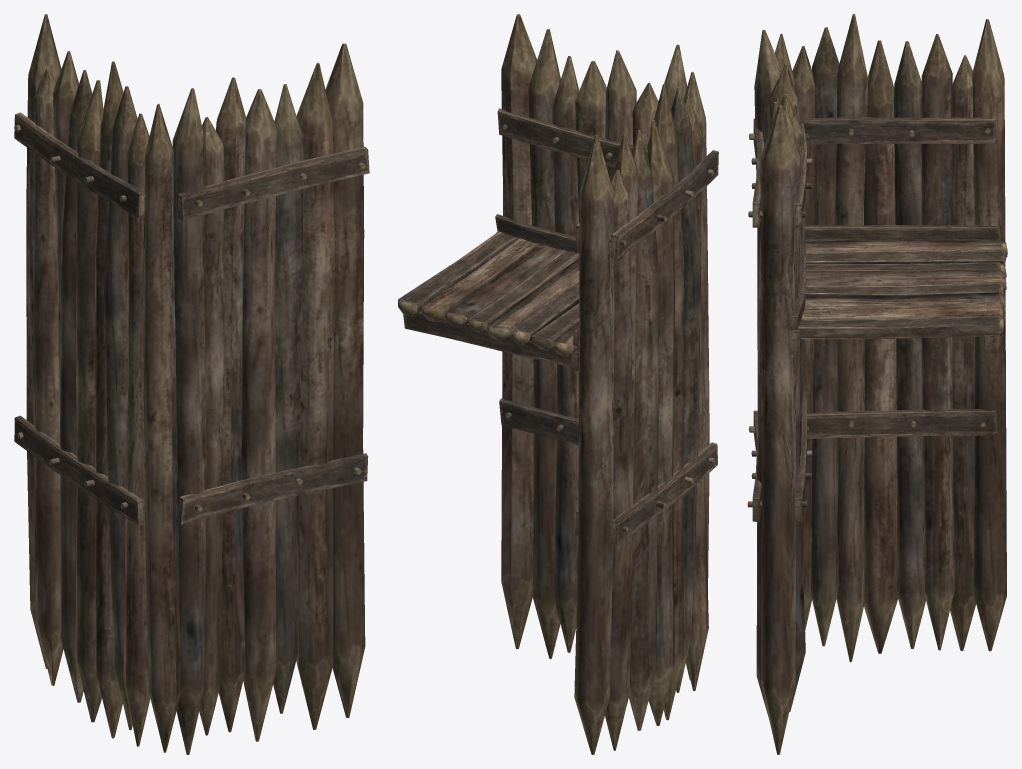
The model's file is jav_struc_def_log_t1_wall_crnrin_rampart-transformed.glb.
3 views of the same model, side by side, from view 1: azimuth 30°, elevation 25°; view 2: azimuth 150°, elevation 25°; view 3: azimuth 270°, elevation 25° (orthographic). The views are drawn at different scales.
Parts seen in each view (by area): view 1: default; view 2: default; view 3: default.
Boxes of the visible parts, x1=… form: default: x1=14, y1=14, x2=369, y2=754; default: x1=398, y1=14, x2=718, y2=754; default: x1=747, y1=14, x2=1007, y2=754.
Size of the model in its own units: 2.41 by 6.41 by 2.32.
1 material, 1 textured.
